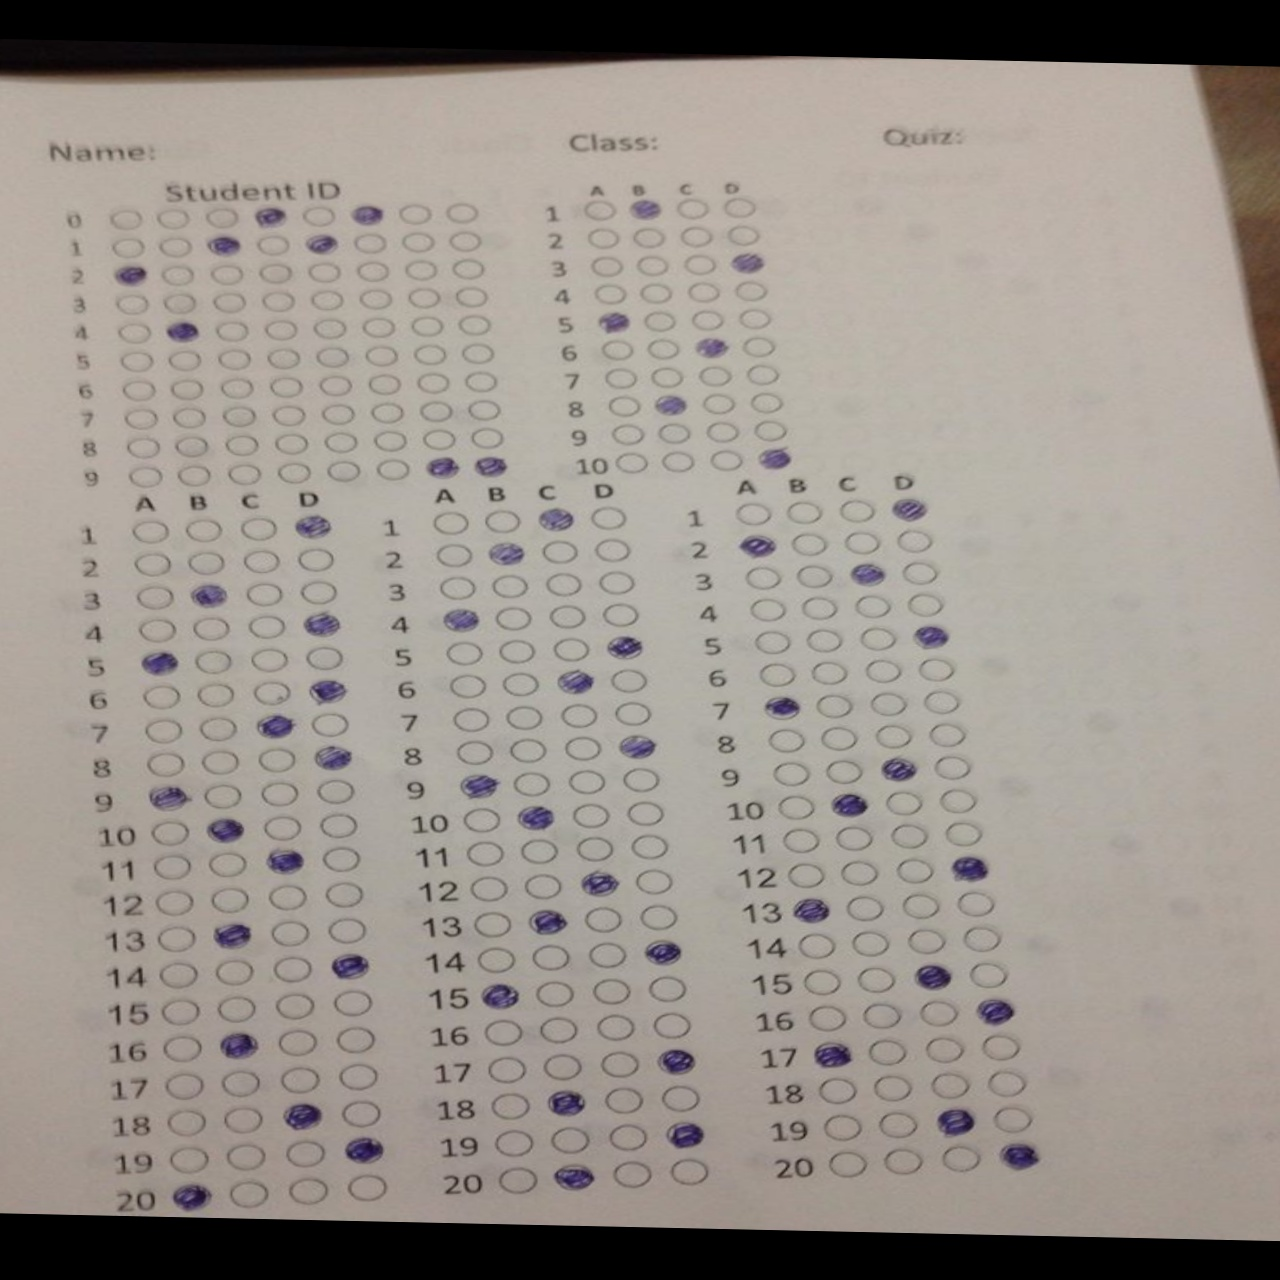not-c: (281, 1137, 331, 1171), (493, 1163, 542, 1197), (665, 1156, 712, 1189), (226, 1178, 271, 1212), (328, 987, 377, 1017), (278, 1063, 324, 1096), (951, 888, 1000, 919), (988, 1104, 1037, 1135), (274, 1028, 321, 1060), (166, 1144, 215, 1175), (485, 1053, 530, 1085), (799, 966, 845, 998), (876, 1111, 922, 1142), (222, 1104, 266, 1136), (489, 1090, 533, 1122), (471, 908, 516, 940), (815, 1075, 859, 1107), (588, 978, 636, 1007), (847, 928, 896, 958), (927, 1070, 975, 1099), (595, 1012, 636, 1046), (223, 1142, 268, 1172), (611, 1158, 656, 1189), (547, 1124, 593, 1155), (771, 758, 813, 791), (158, 998, 202, 1029), (159, 1034, 203, 1065), (165, 1107, 209, 1138), (533, 979, 577, 1010), (142, 715, 186, 745), (149, 817, 193, 847), (271, 955, 315, 986), (162, 1070, 206, 1101), (645, 974, 689, 1005), (795, 931, 839, 961), (860, 1001, 905, 1032), (924, 1035, 968, 1065), (983, 1069, 1028, 1099), (335, 1024, 376, 1057), (826, 1149, 867, 1182), (257, 779, 302, 809), (580, 905, 626, 934), (622, 798, 668, 828), (880, 1146, 926, 1176), (287, 1177, 329, 1208), (660, 1083, 702, 1115), (967, 959, 1009, 990), (917, 998, 959, 1029), (822, 1114, 864, 1145), (154, 887, 197, 918), (267, 918, 311, 948), (157, 960, 200, 990), (215, 994, 258, 1024), (608, 1122, 652, 1152), (805, 1003, 849, 1034), (872, 1073, 915, 1103), (960, 924, 1005, 953), (156, 924, 198, 954), (632, 867, 678, 896), (520, 872, 563, 903), (571, 801, 613, 831), (900, 892, 942, 922), (320, 844, 363, 873), (219, 1069, 263, 1098), (865, 1036, 908, 1065), (346, 1175, 390, 1203), (509, 770, 553, 798), (566, 769, 611, 797), (449, 706, 493, 734), (598, 601, 642, 629), (930, 755, 974, 783), (328, 915, 369, 946), (215, 958, 256, 988), (493, 1129, 535, 1159), (139, 682, 182, 712), (316, 811, 359, 840), (602, 1085, 645, 1115), (649, 1012, 692, 1041), (475, 946, 517, 975), (621, 765, 663, 795), (205, 851, 251, 878), (812, 692, 856, 720), (906, 927, 949, 955), (587, 940, 627, 971), (765, 726, 806, 755), (787, 862, 828, 891), (202, 782, 246, 809), (206, 887, 251, 914), (252, 679, 294, 707), (256, 745, 298, 774), (261, 813, 304, 842), (483, 1019, 525, 1047), (506, 737, 549, 765), (503, 704, 545, 733), (550, 635, 592, 663), (597, 568, 639, 597), (857, 626, 899, 654), (809, 659, 851, 687), (942, 821, 985, 849), (855, 966, 897, 994), (938, 1146, 980, 1175), (297, 578, 340, 605), (629, 835, 673, 862), (799, 595, 843, 622), (802, 627, 845, 654), (274, 993, 314, 1022), (600, 1050, 640, 1080), (574, 835, 614, 864), (900, 559, 940, 588), (927, 721, 967, 750), (893, 857, 933, 886), (309, 712, 350, 740), (151, 853, 192, 881), (542, 1053, 583, 1081), (538, 1016, 579, 1044), (467, 874, 508, 903), (833, 824, 874, 852), (244, 614, 286, 641), (304, 645, 346, 672), (248, 647, 291, 674), (561, 735, 604, 762), (455, 738, 497, 765), (493, 605, 536, 632), (547, 602, 590, 629), (438, 574, 481, 601), (733, 501, 775, 527), (792, 563, 835, 590), (756, 661, 798, 688), (824, 758, 866, 785), (839, 862, 881, 888), (844, 896, 886, 922), (268, 883, 307, 912), (519, 837, 558, 866), (544, 570, 583, 599), (198, 715, 238, 743), (202, 748, 241, 776), (325, 879, 365, 907), (339, 1063, 379, 1091), (340, 1099, 380, 1128), (787, 531, 830, 557), (853, 594, 897, 620), (753, 629, 794, 656), (862, 659, 903, 686), (919, 690, 960, 717), (819, 726, 860, 753), (883, 790, 924, 817), (779, 828, 821, 855), (980, 1034, 1021, 1061), (531, 942, 568, 972), (155, 234, 197, 260), (136, 618, 178, 644), (314, 778, 356, 804), (467, 840, 505, 869), (491, 573, 530, 601), (842, 529, 884, 554), (891, 822, 930, 850), (135, 585, 175, 612), (195, 649, 234, 676), (147, 751, 186, 778), (639, 904, 679, 931), (461, 806, 501, 833), (784, 501, 824, 527), (748, 595, 788, 622), (903, 591, 942, 618), (917, 658, 956, 685), (874, 723, 914, 750), (939, 787, 979, 813), (776, 794, 816, 821), (241, 549, 282, 574), (588, 505, 629, 531), (867, 692, 908, 717), (613, 700, 651, 728), (896, 526, 933, 554), (503, 670, 542, 697), (435, 542, 474, 568), (157, 263, 199, 287), (109, 236, 151, 260), (243, 583, 285, 607), (216, 346, 256, 372), (297, 546, 336, 572), (188, 550, 227, 576), (608, 667, 648, 693), (445, 640, 485, 666), (539, 539, 579, 565), (594, 536, 631, 564), (560, 702, 598, 729), (497, 639, 538, 663), (368, 400, 407, 425), (321, 429, 360, 455), (193, 617, 232, 642), (592, 281, 631, 307), (256, 263, 298, 286), (206, 263, 248, 286), (151, 207, 193, 231), (449, 673, 486, 699), (688, 308, 726, 334), (602, 366, 640, 392), (105, 207, 147, 231), (738, 335, 779, 359), (113, 292, 151, 316), (309, 316, 348, 341), (324, 459, 362, 484), (183, 518, 222, 543), (350, 230, 387, 256), (239, 516, 275, 542), (197, 682, 233, 708), (838, 498, 874, 524), (461, 369, 501, 393), (131, 520, 171, 544), (134, 552, 173, 576), (433, 511, 472, 535), (743, 363, 783, 387), (743, 566, 783, 590), (116, 320, 154, 345), (365, 343, 402, 368), (316, 374, 354, 399), (649, 366, 687, 390), (263, 318, 298, 343), (226, 463, 265, 486), (223, 434, 261, 457), (485, 509, 520, 535), (735, 308, 774, 332), (659, 450, 697, 474), (300, 204, 336, 229), (445, 229, 482, 253), (316, 345, 353, 369), (173, 435, 210, 459), (586, 226, 622, 251), (600, 338, 636, 362), (697, 365, 734, 389), (607, 394, 644, 418), (411, 343, 451, 366), (470, 427, 508, 450), (366, 373, 403, 396), (678, 224, 715, 247), (748, 393, 785, 416), (445, 200, 481, 225), (124, 407, 159, 431), (467, 399, 505, 421), (588, 256, 627, 278), (166, 350, 203, 374), (267, 347, 304, 370), (459, 341, 496, 365), (275, 461, 312, 484), (726, 224, 762, 247), (704, 421, 741, 444), (655, 422, 692, 445), (723, 195, 757, 219), (687, 279, 721, 304), (204, 206, 241, 229), (372, 430, 409, 452), (175, 465, 212, 488), (219, 377, 257, 400), (682, 253, 720, 275), (638, 282, 675, 305), (397, 203, 433, 226), (400, 231, 435, 254), (452, 285, 488, 308), (418, 400, 454, 423), (415, 372, 450, 395), (701, 393, 736, 416), (403, 259, 440, 281), (362, 316, 399, 339), (376, 459, 413, 482), (646, 338, 682, 360), (452, 258, 486, 281), (407, 287, 441, 311), (261, 290, 295, 313), (162, 292, 196, 315), (127, 436, 161, 459), (271, 375, 305, 399), (173, 406, 207, 429), (754, 420, 788, 443), (128, 467, 165, 488), (308, 263, 343, 285), (457, 314, 492, 336), (321, 403, 356, 425), (222, 404, 257, 427), (120, 380, 155, 402), (642, 311, 678, 333), (633, 226, 666, 250), (409, 316, 445, 338), (257, 233, 291, 256), (359, 290, 393, 312), (309, 290, 343, 312), (583, 199, 617, 222), (675, 198, 709, 220), (734, 280, 768, 302), (615, 452, 649, 475), (169, 377, 204, 399), (611, 424, 646, 445), (213, 291, 246, 313), (121, 350, 154, 373), (275, 433, 309, 454), (271, 406, 305, 427), (710, 451, 744, 472), (356, 260, 388, 282), (215, 321, 247, 342), (424, 430, 457, 450), (636, 256, 669, 275)
taken-c: (143, 783, 195, 815), (551, 1160, 598, 1194), (211, 918, 256, 953), (327, 949, 372, 983), (218, 1029, 263, 1062), (663, 1119, 708, 1152), (995, 1141, 1041, 1172), (280, 1099, 324, 1132), (340, 1133, 384, 1165), (137, 647, 181, 679), (200, 813, 244, 845), (947, 853, 993, 883), (263, 846, 306, 877), (934, 1107, 978, 1137), (292, 511, 336, 540), (790, 896, 835, 924), (546, 1088, 587, 1118), (656, 1046, 697, 1076), (812, 1040, 853, 1070), (171, 1182, 213, 1211), (912, 964, 954, 993), (486, 539, 527, 568), (188, 581, 230, 610), (256, 712, 298, 740), (886, 495, 928, 523), (300, 611, 343, 638), (641, 938, 682, 966), (527, 908, 568, 937), (440, 606, 481, 634), (306, 679, 350, 704), (458, 772, 501, 799), (761, 694, 803, 721), (482, 982, 520, 1012), (975, 998, 1014, 1027), (515, 803, 554, 831), (554, 667, 594, 695), (754, 445, 795, 472), (579, 871, 621, 897), (618, 731, 656, 760), (849, 561, 888, 588), (879, 755, 917, 783), (163, 318, 202, 345), (740, 533, 779, 559), (910, 625, 949, 651), (727, 251, 768, 275), (314, 745, 353, 771), (597, 309, 635, 335), (536, 508, 576, 532), (829, 794, 869, 818), (348, 200, 384, 227), (471, 454, 509, 479), (652, 393, 688, 418), (607, 634, 644, 659), (693, 335, 730, 359), (425, 456, 459, 482), (251, 206, 287, 230), (207, 234, 243, 258), (113, 263, 147, 286), (302, 234, 340, 256), (628, 199, 662, 222)
